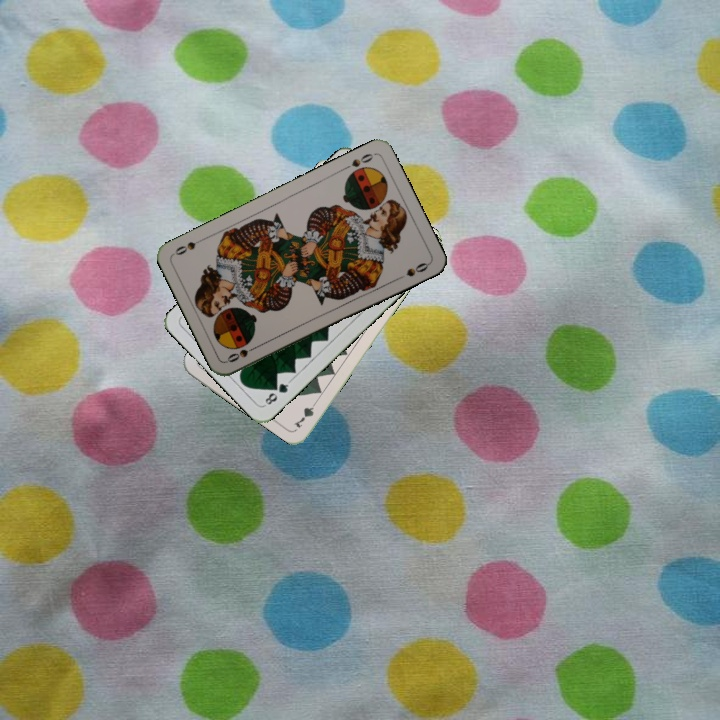G7: (290, 395, 321, 431)
G8: (260, 377, 293, 408)
SO: (223, 341, 261, 365), (339, 149, 377, 173)
